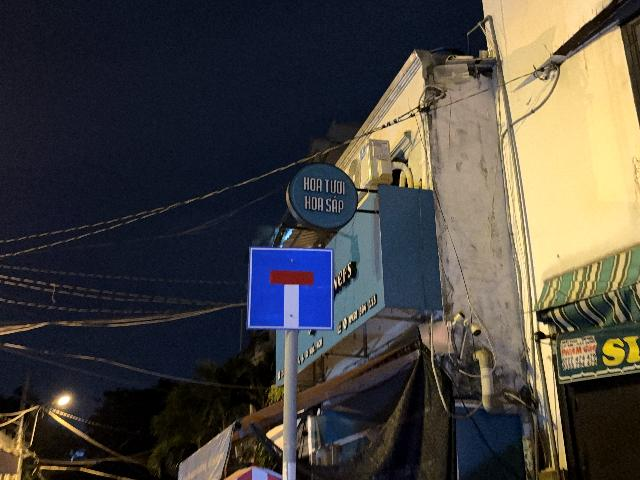duong-cut: (247, 246, 334, 331)
